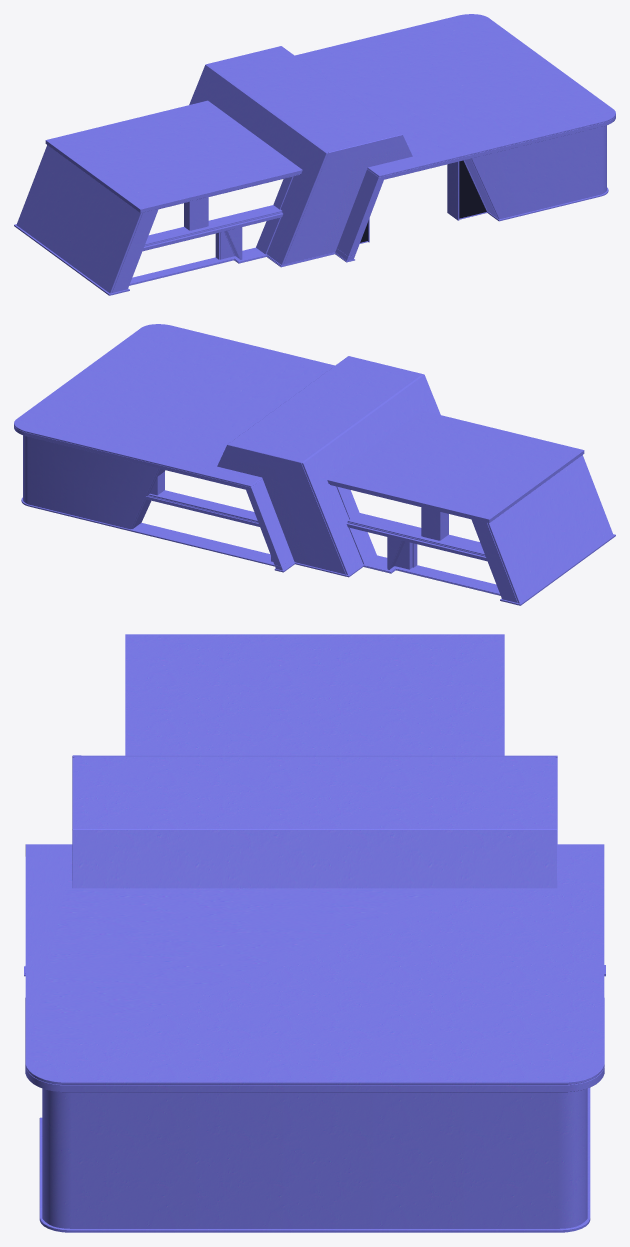
Rendered from Building_SK_001_1st_L0.fbx.
The picture shows the model from 3 angles, top to bottom: view 1: azimuth 30°, elevation 25°; view 2: azimuth 150°, elevation 25°; view 3: azimuth 270°, elevation 25°; orthographic projection. The views are drawn at different scales.
Visible parts, largest first — view 1: Building_SK_001_1st_L0; view 2: Building_SK_001_1st_L0; view 3: Building_SK_001_1st_L0.
Part boxes in pixels (x1,y1,x2,y2): Building_SK_001_1st_L0: [14, 14, 615, 295]; Building_SK_001_1st_L0: [14, 324, 615, 605]; Building_SK_001_1st_L0: [24, 634, 605, 1232].
Bounding box in the file's own units: 77.64 × 15.52 × 39.98.
